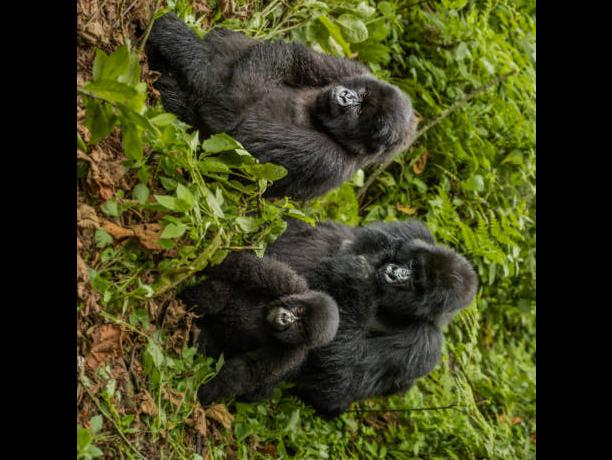goriile_montagne: (148, 20, 422, 200), (324, 212, 486, 390), (202, 259, 333, 400)
